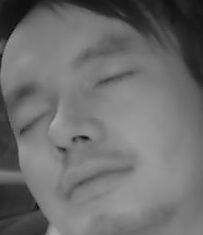blink: (94, 69, 136, 91), (18, 110, 53, 136)
mouth: (56, 157, 133, 203)
